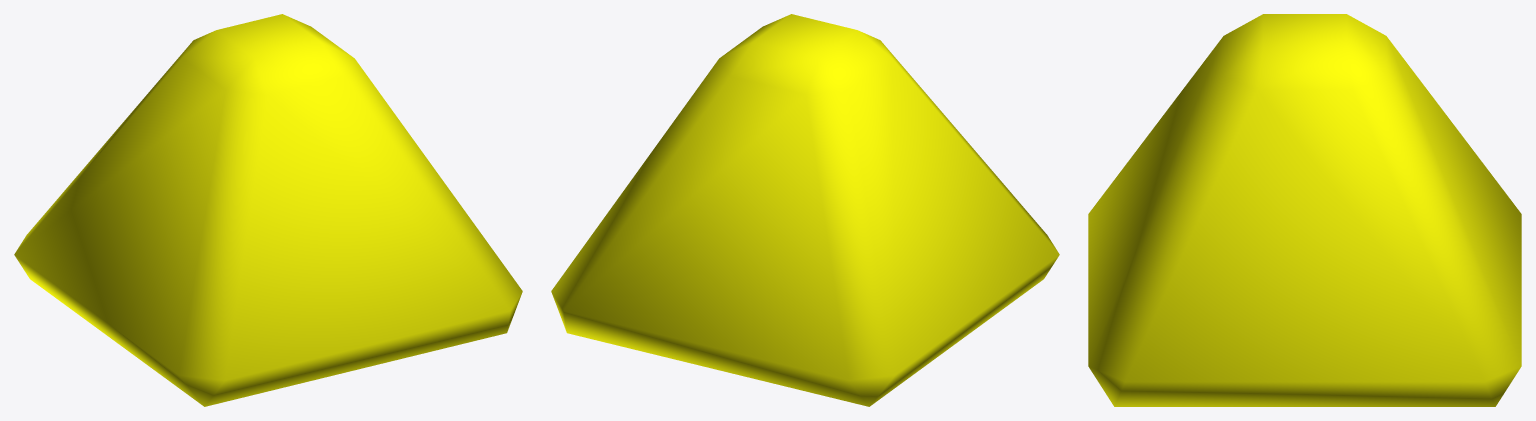
Rendered from kaykit-bush-4-b-color-1.glb.
3 views of the same model, side by side, from view 1: azimuth 30°, elevation 25°; view 2: azimuth 150°, elevation 25°; view 3: azimuth 270°, elevation 25° (orthographic). The views are drawn at different scales.
Parts seen in each view (by area): view 1: Bush_4_B_Color1; view 2: Bush_4_B_Color1; view 3: Bush_4_B_Color1.
Boxes of the visible parts, x1,y1,x2,y2 form: Bush_4_B_Color1: (14, 14, 522, 406); Bush_4_B_Color1: (551, 14, 1059, 406); Bush_4_B_Color1: (1088, 14, 1521, 406).
Bounding box in the file's own units: 0.9908 × 0.7434 × 0.9908.
